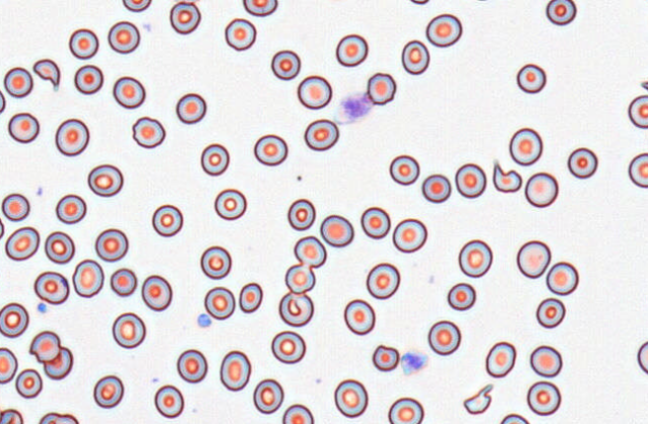PLT: (402, 350, 429, 374), (196, 312, 212, 328), (36, 302, 48, 313)
RBC: (333, 378, 368, 418), (219, 350, 251, 391), (365, 262, 400, 299), (516, 240, 550, 278), (458, 239, 492, 277), (55, 118, 89, 156), (508, 127, 542, 165), (526, 380, 561, 416), (425, 13, 462, 47), (278, 291, 313, 326), (392, 218, 427, 253), (111, 312, 145, 348), (524, 171, 558, 207), (87, 163, 123, 197), (72, 259, 104, 297), (4, 226, 39, 260), (297, 75, 332, 109), (33, 271, 69, 304), (343, 298, 375, 335), (427, 320, 460, 355), (304, 118, 339, 151), (485, 341, 516, 378), (141, 274, 172, 311), (94, 228, 128, 261), (320, 214, 354, 247), (271, 330, 305, 363), (454, 163, 486, 198), (293, 235, 326, 268), (335, 33, 368, 66), (107, 20, 140, 53), (253, 134, 287, 166), (546, 261, 578, 295), (131, 116, 165, 148), (176, 348, 207, 383), (253, 378, 283, 414), (529, 345, 562, 377), (112, 76, 145, 108), (204, 286, 235, 320), (200, 245, 231, 279), (93, 374, 124, 408), (224, 18, 256, 50), (151, 204, 183, 236), (214, 188, 246, 220), (169, 1, 200, 34), (154, 384, 184, 418), (0, 302, 29, 337), (175, 92, 206, 124), (43, 346, 73, 379), (360, 206, 390, 239), (401, 39, 429, 74), (387, 397, 424, 423), (284, 263, 315, 294), (55, 193, 86, 224), (567, 147, 598, 178), (8, 112, 39, 143), (366, 72, 396, 104), (44, 231, 74, 263), (200, 143, 229, 176), (3, 66, 33, 97), (389, 154, 419, 185), (68, 28, 98, 59), (270, 49, 300, 80), (421, 173, 451, 203), (516, 63, 546, 93), (536, 297, 565, 328), (287, 198, 315, 230), (74, 64, 103, 94), (1, 192, 29, 221), (447, 282, 476, 310), (15, 368, 42, 398), (110, 267, 137, 296), (545, 0, 576, 25), (238, 282, 262, 313), (0, 346, 18, 384), (628, 152, 647, 188), (628, 94, 647, 128), (282, 403, 314, 423), (242, 0, 277, 16), (38, 411, 79, 424), (637, 340, 648, 374), (0, 408, 23, 424), (122, 0, 151, 12), (499, 413, 529, 423), (0, 89, 6, 114), (0, 216, 5, 240), (640, 79, 648, 91), (170, 0, 201, 3), (409, 0, 430, 4)
Schistocyte: (29, 330, 61, 364), (461, 384, 494, 415), (491, 162, 522, 193), (372, 344, 401, 372), (32, 59, 61, 86)
